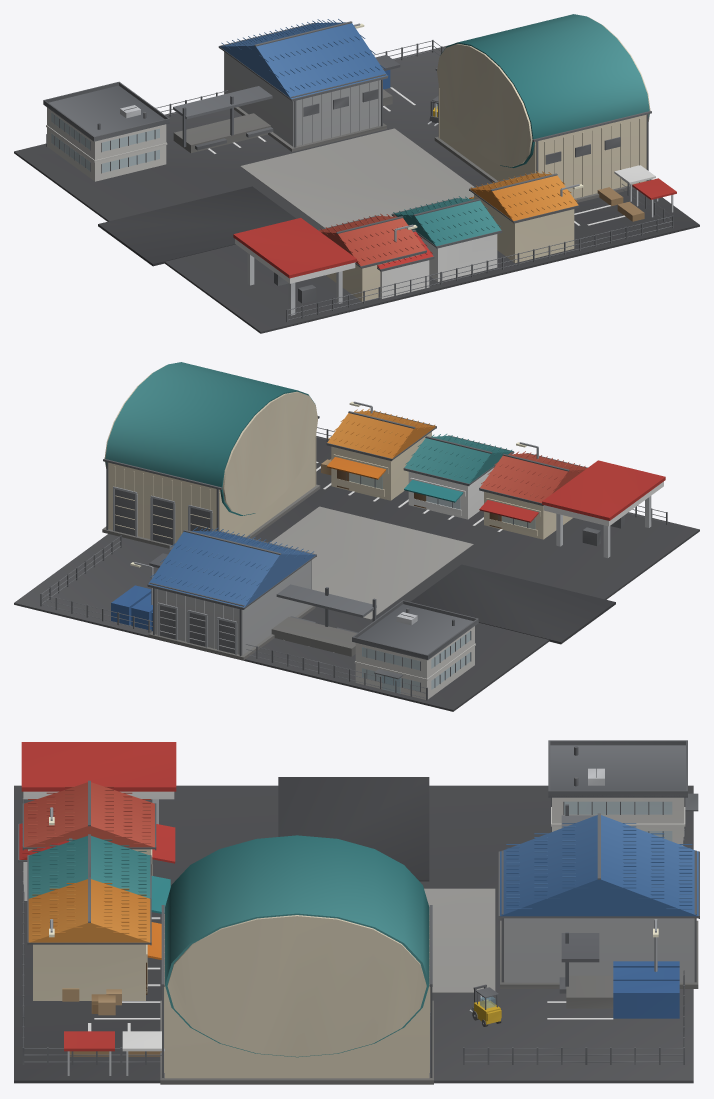
The model's file is Market_P2.fbx.
The picture shows the model from 3 angles, top to bottom: view 1: azimuth 30°, elevation 25°; view 2: azimuth 150°, elevation 25°; view 3: azimuth 270°, elevation 25°; orthographic projection. The views are drawn at different scales.
Parts seen in each view (by area): view 1: Market.Pad, Market.WH1, Market.WH2, Market.Office, Market.Shop2, Market.Fuel, Market.Shop1, Market.Shop0, Market.Dock, Market.Fence, Market.Stalls, Market.FuelShop; view 2: Market.Pad, Market.WH1, Market.WH2, Market.Office, Market.Shop2, Market.Shop1, Market.Fuel, Market.Shop0, Market.Dock, Market.Fence, Market.Goods; view 3: Market.Pad, Market.WH1, Market.WH2, Market.Shop2, Market.Office, Market.Fuel, Market.Shop0, Market.Shop1, Market.Goods, Market.Dock, Market.Fence, Market.Stalls (+3 smaller).
Boxes of the visible parts, x1,y1,x2,y2 form: Market.Pad: [14, 45, 699, 333]; Market.WH1: [434, 14, 651, 202]; Market.WH2: [218, 19, 388, 151]; Market.Office: [43, 81, 169, 181]; Market.Shop2: [469, 171, 579, 262]; Market.Fuel: [233, 218, 356, 315]; Market.Shop1: [391, 196, 502, 281]; Market.Shop0: [318, 213, 426, 301]; Market.Dock: [173, 55, 400, 153]; Market.Fence: [46, 40, 673, 322]; Market.Stalls: [597, 165, 676, 221]; Market.FuelShop: [377, 229, 434, 298]; Market.Pad: [14, 436, 699, 711]; Market.WH1: [102, 362, 320, 548]; Market.WH2: [147, 527, 316, 660]; Market.Office: [352, 600, 478, 699]; Market.Shop2: [326, 408, 436, 500]; Market.Shop1: [403, 434, 514, 519]; Market.Fuel: [542, 460, 665, 558]; Market.Shop0: [479, 451, 587, 539]; Market.Dock: [149, 553, 376, 656]; Market.Fence: [40, 427, 667, 700]; Market.Goods: [111, 459, 331, 630]; Market.Pad: [14, 777, 693, 1083]; Market.WH1: [160, 835, 433, 1084]; Market.WH2: [498, 813, 699, 988]; Market.Shop2: [27, 877, 161, 1000]; Market.Office: [548, 740, 698, 845]; Market.Fuel: [21, 742, 176, 824]; Market.Shop0: [22, 780, 175, 875]; Market.Shop1: [27, 834, 170, 913]; Market.Goods: [62, 961, 679, 1018]; Market.Dock: [559, 804, 613, 1008]; Market.Fence: [22, 792, 684, 1064]; Market.Stalls: [64, 1031, 164, 1075].
Bounding box in the file's own units: 7707 × 2021 × 7267.
